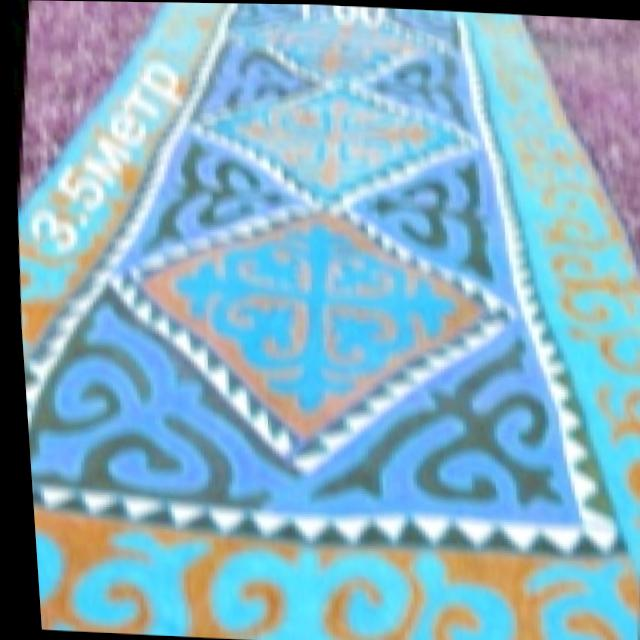Unity: (132, 219, 475, 431)
